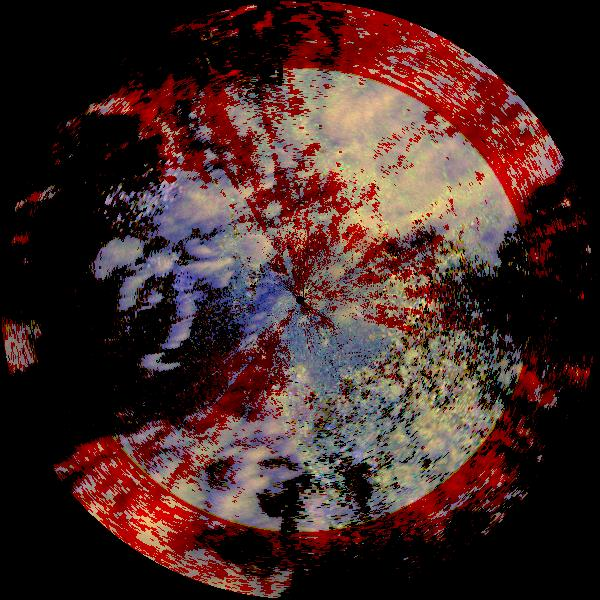roost: (340, 296, 370, 326), (288, 359, 315, 386), (319, 336, 334, 351)
